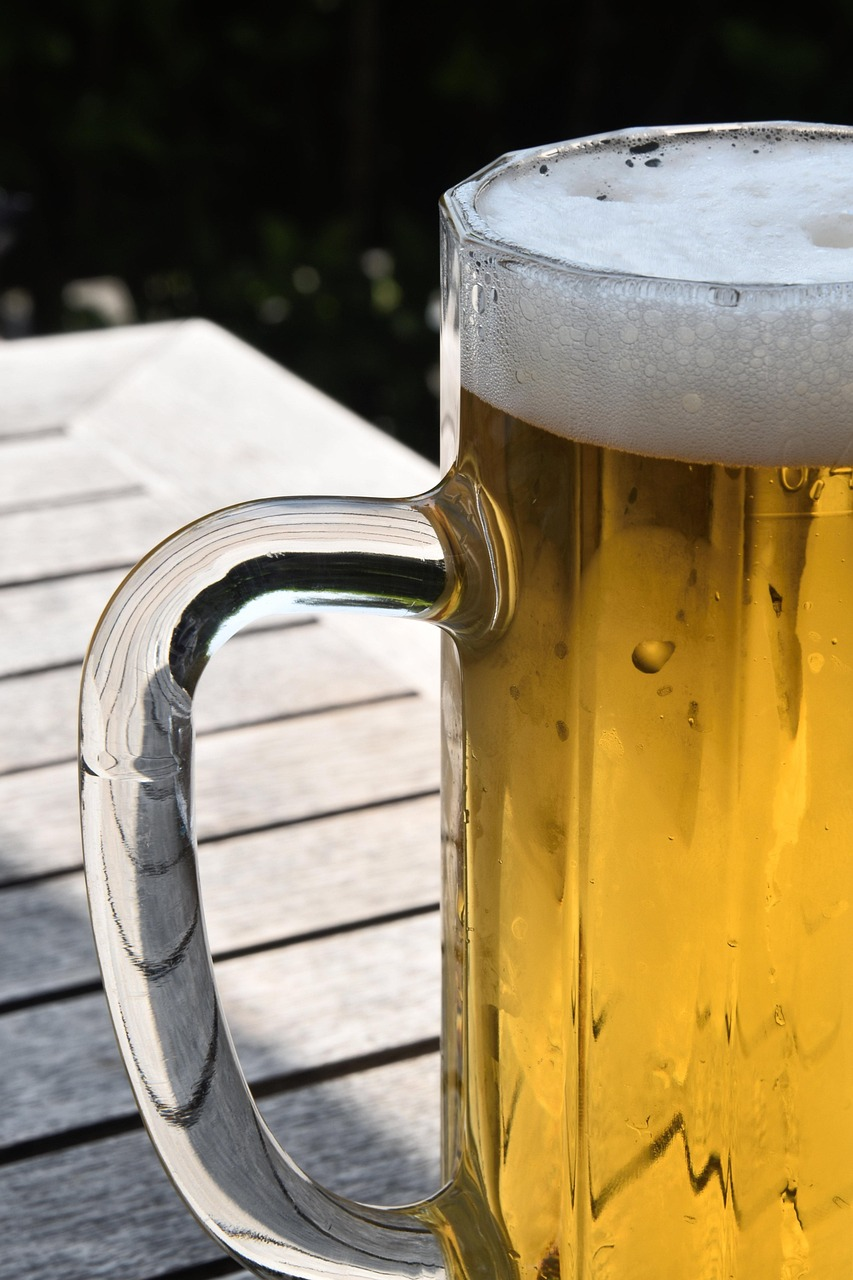mug: (103, 98, 853, 1237)
